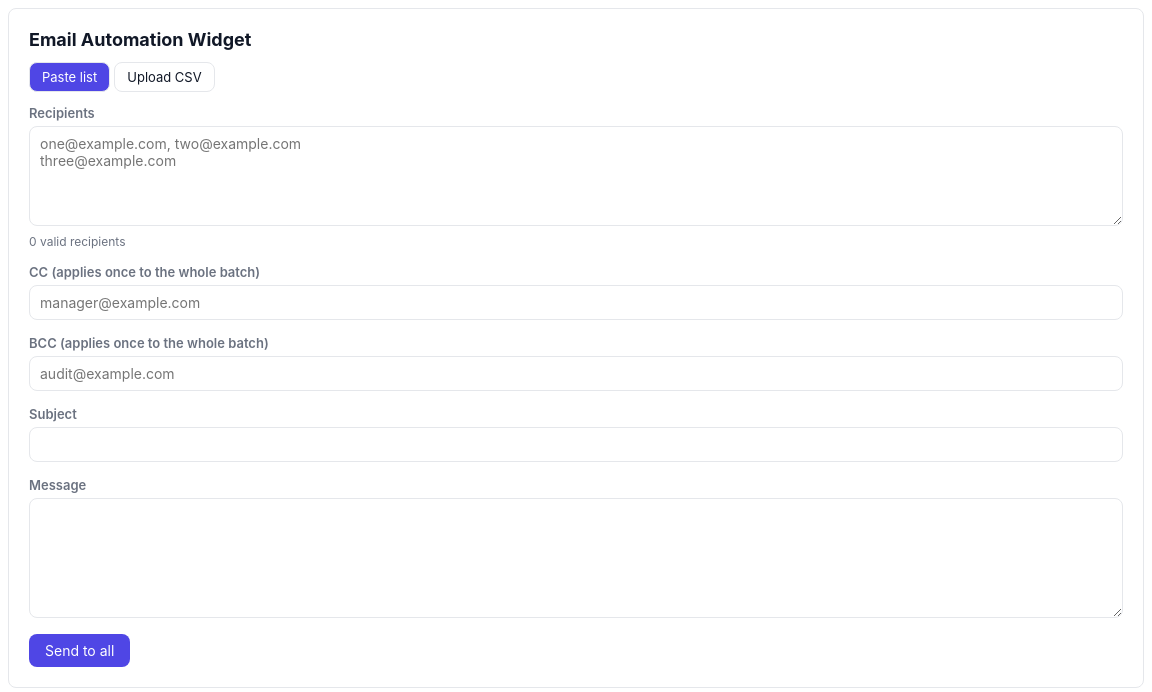
Test: EmailAutomationWidget (bulk mode) › warns about invalid entries without blocking the valid ones
This screenshot has width=1152, height=692.
In the text box labelled "Recipients": (576, 176) [29,126,1123,226], type "a@x.com, not-an-email"
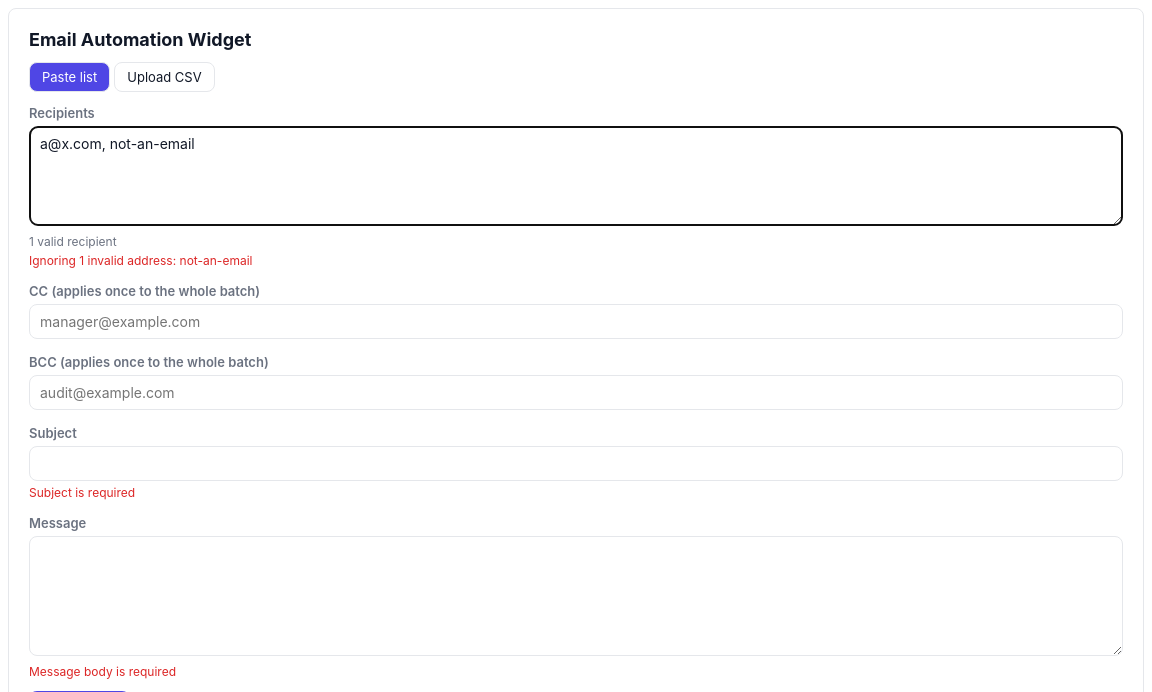
Expected: the text "1 valid recipient" is shown, [29,234,117,249]
Expected: the text "Ignoring 1 invalid address: not-an-email" is shown, [29,253,252,268]
